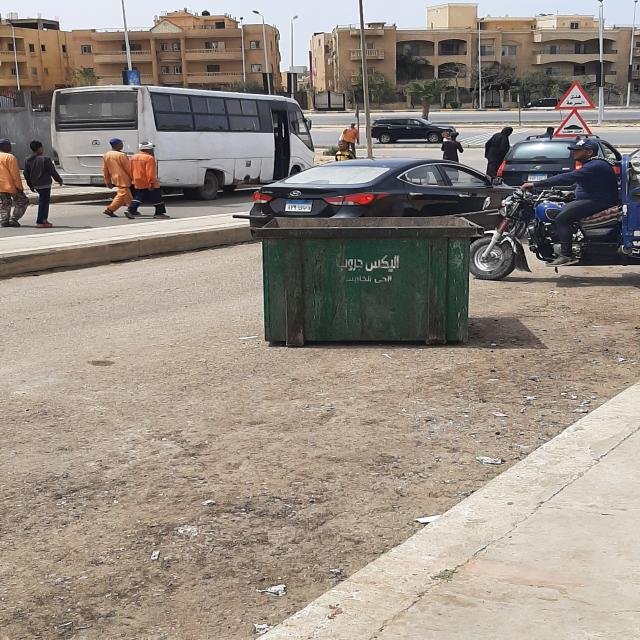Street Light: (251, 10, 271, 102), (596, 0, 605, 125), (290, 16, 299, 104), (477, 17, 485, 110), (239, 16, 245, 97)
